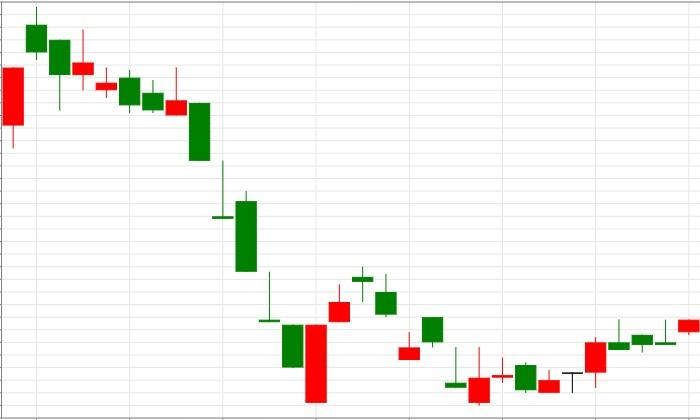bullish_engulfing_rise: (189, 103, 328, 404)
